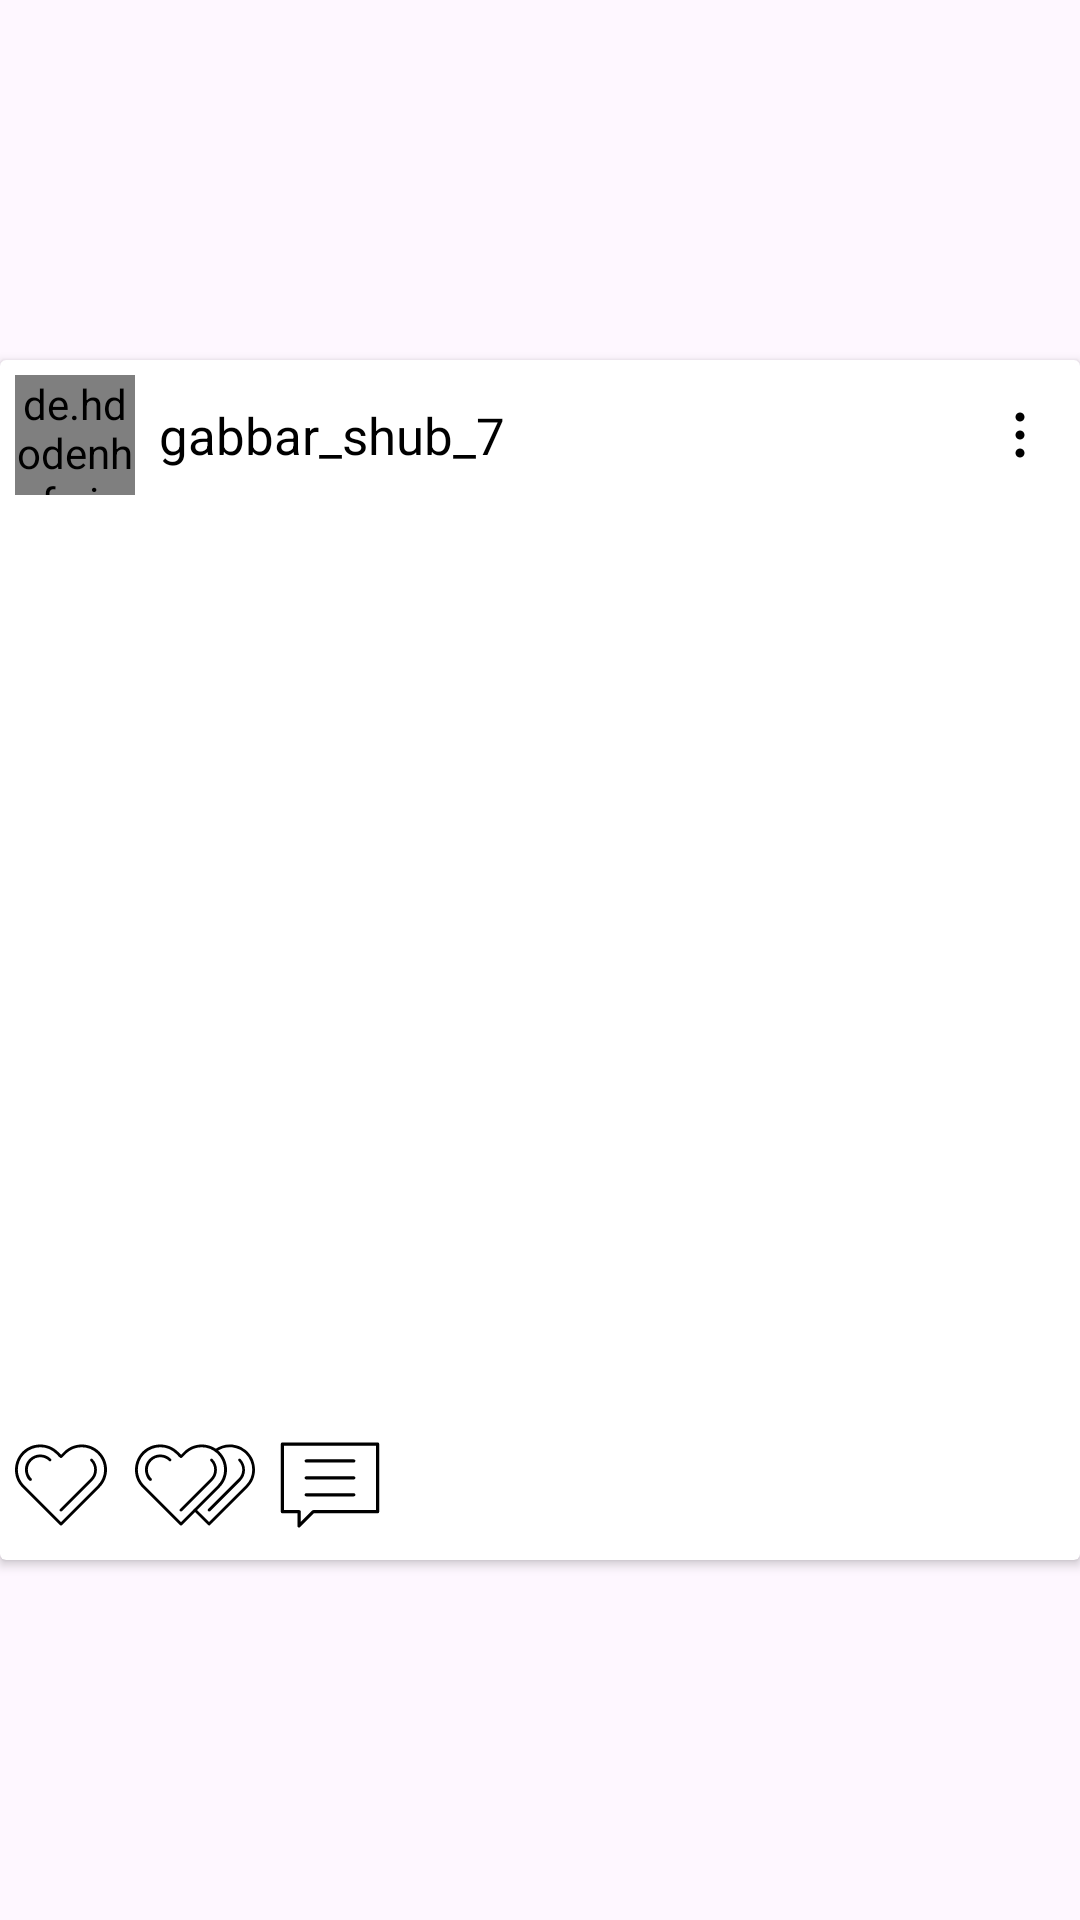

Locate icon controls on the screen. Image size 1080x1920, boxes as (x1, y1, x2, y2).
comment: (280, 1442, 380, 1528)
double heart: (135, 1444, 255, 1526)
heart: (15, 1444, 107, 1526)
three dot: (1015, 412, 1025, 458)
